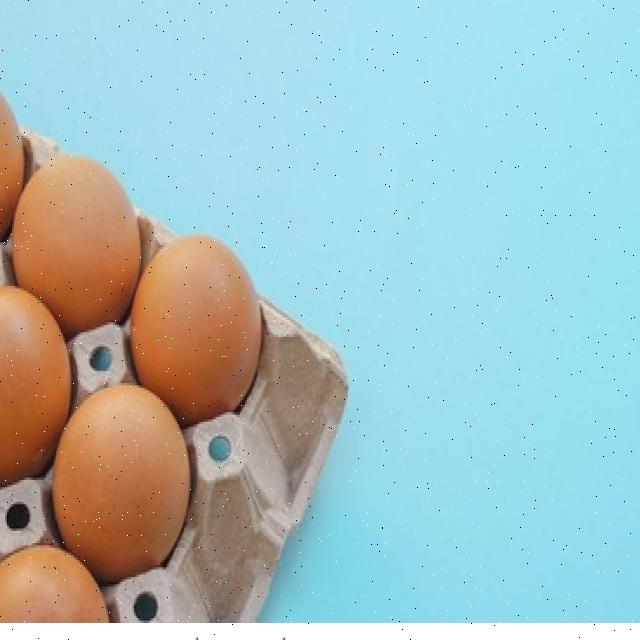Brown Egg: (48, 382, 190, 574), (132, 234, 266, 423), (9, 150, 139, 326), (0, 279, 71, 502), (0, 545, 111, 620), (0, 70, 24, 235)
